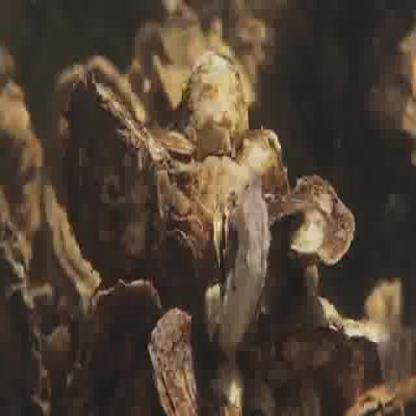Oyster- Indeterminate: (165, 229, 201, 282), (212, 205, 234, 269), (343, 320, 383, 345)
Oyster-Closed: (67, 78, 162, 272), (0, 223, 52, 416), (219, 188, 271, 360), (183, 51, 248, 160), (150, 309, 209, 416), (57, 57, 149, 125), (91, 279, 162, 364), (287, 179, 354, 267), (235, 130, 283, 192), (197, 158, 251, 210), (163, 8, 209, 68), (348, 378, 416, 416), (287, 296, 342, 335), (158, 63, 192, 120), (267, 192, 314, 225), (286, 338, 334, 370), (135, 23, 165, 73), (148, 129, 193, 157)
